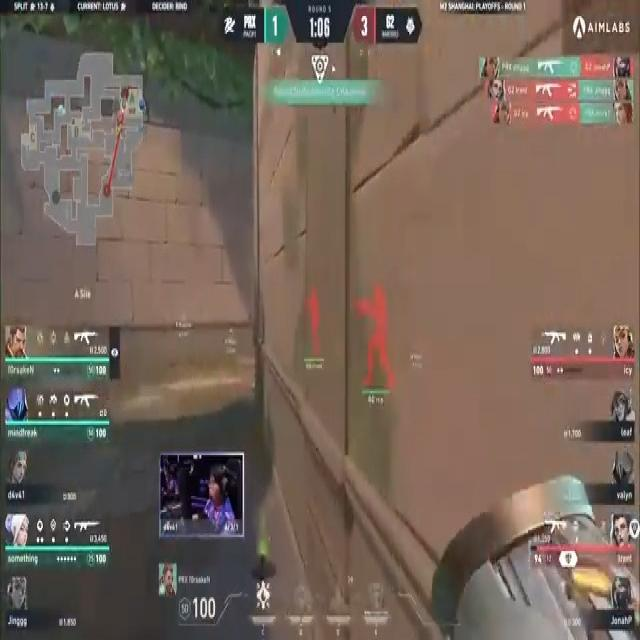enemy behind wall: (349, 273, 402, 413), (302, 278, 327, 368)
